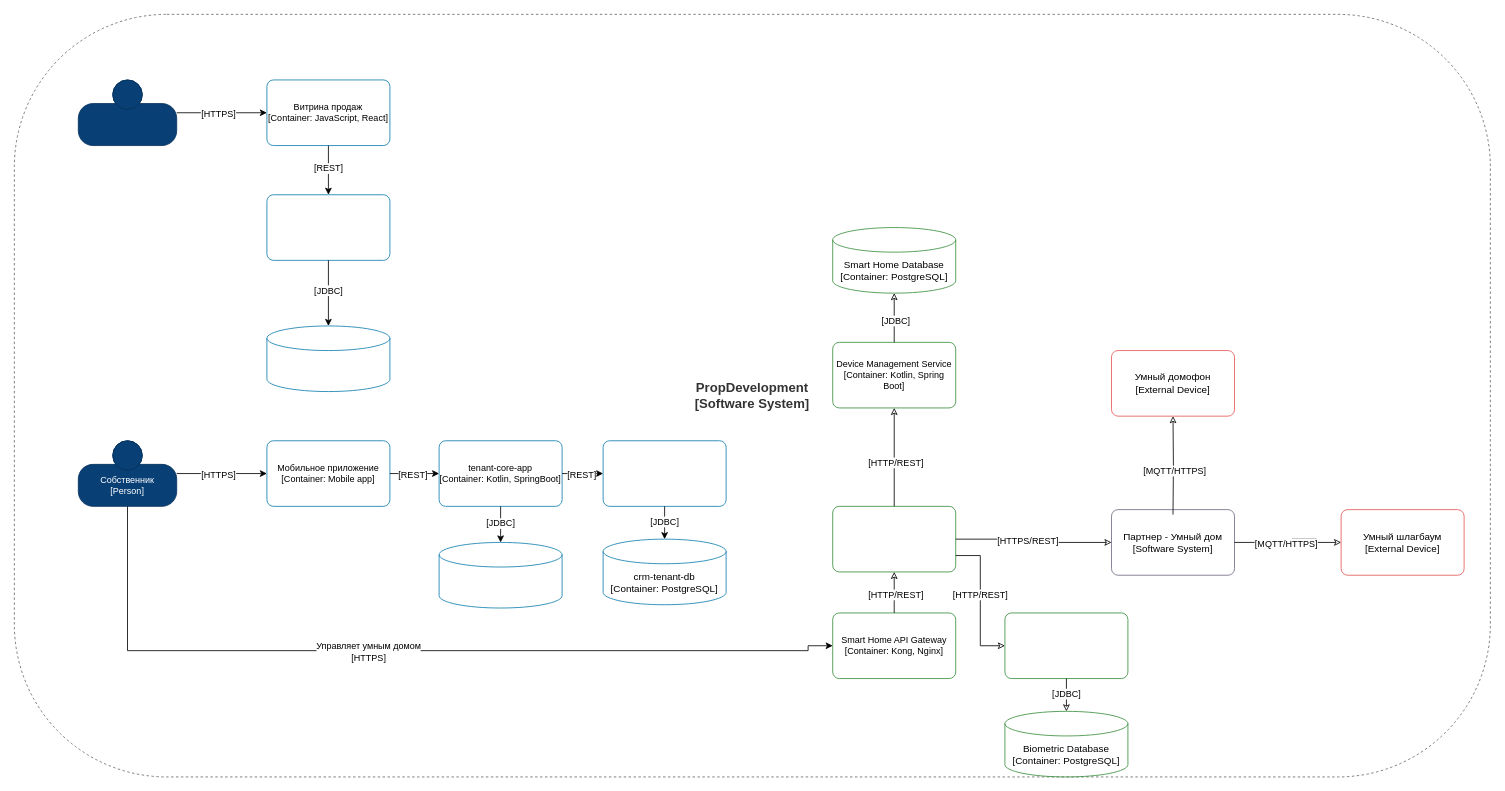
Image size: 1505x791. Some labels were removed from this diagram. The shapes that lost their labels are listed below. From the top down, each one's centre as x and y in pixels, then its label:
(x=127, y=112): Клиент [Person]
(x=328, y=227): client-mart-app [Container: Kotlin, SpringBoot]
(x=328, y=358): client-mart-db [Container: PostgreSQL]
(x=664, y=473): CRM [Container: Kotlin, Spring Boot]
(x=894, y=539): Smart Home Service [Container: Kotlin, Spring Boot]
(x=500, y=575): tenant-core-db [Container: PostgreSQL]
(x=1066, y=645): Access Control Service [Container: Kotlin, Spring Boot]
